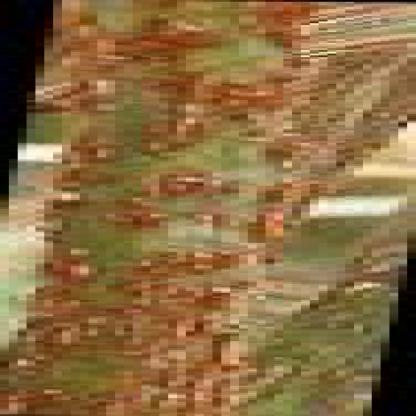wheat Stem Rust: (84, 100, 316, 223), (67, 1, 293, 92), (54, 242, 239, 336), (41, 345, 229, 415)
